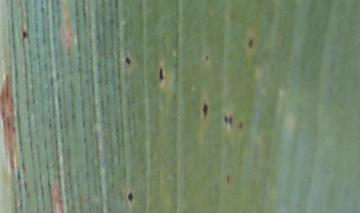tarspot: (201, 101, 208, 117), (158, 67, 164, 80), (247, 37, 254, 48), (127, 192, 134, 202), (22, 32, 29, 40), (237, 121, 244, 129), (228, 113, 233, 123), (125, 57, 131, 64), (225, 174, 230, 182), (224, 114, 228, 123), (205, 56, 210, 61)
